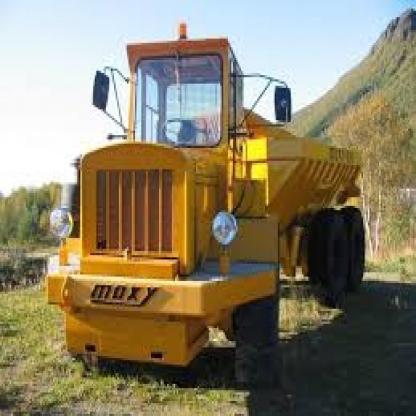dump_truck: (53, 26, 376, 401)
